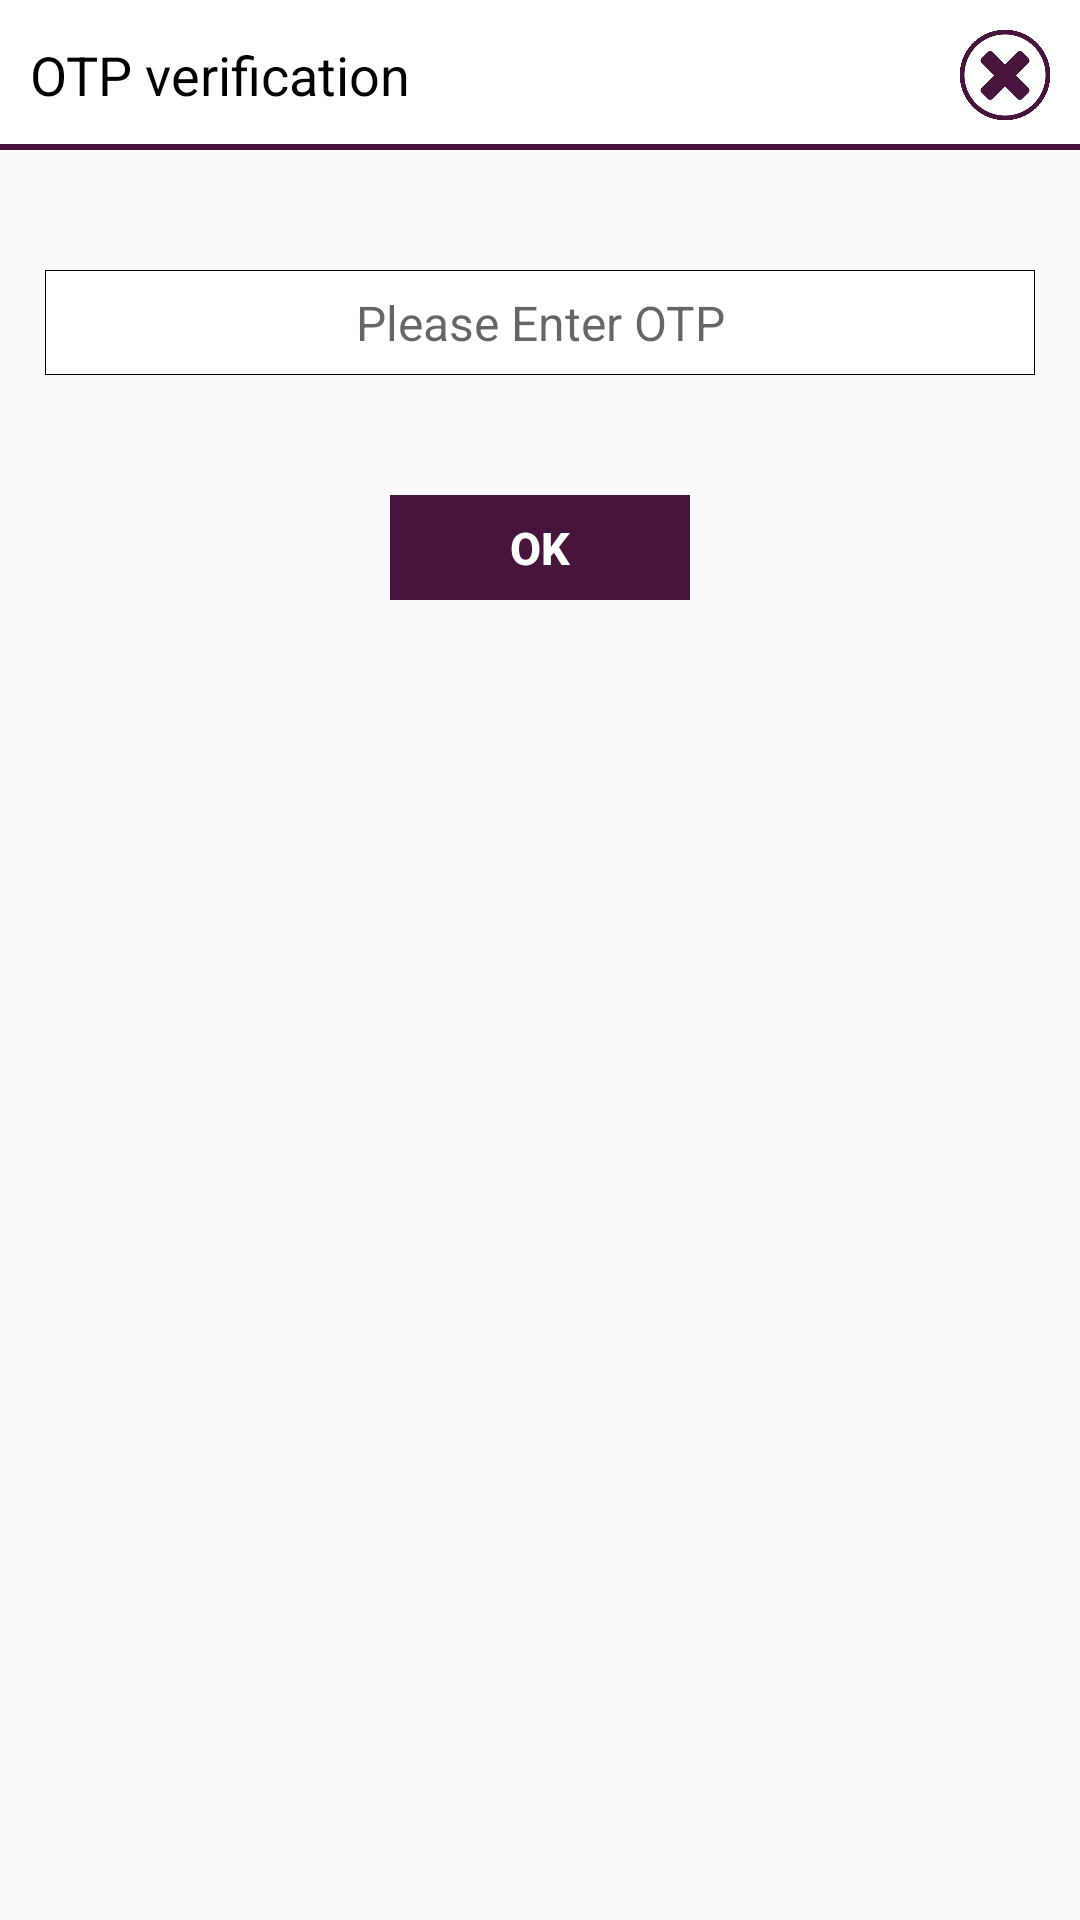

Screen size 1080px×1920px. Icon name, then its box in pixels as (x1, y1, x2, y2):
close: (960, 30, 1050, 120)
